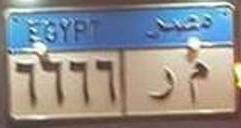6: (40, 61, 64, 106), (15, 61, 37, 106), (69, 58, 89, 105), (95, 59, 116, 102)
meem: (185, 61, 209, 105)
raa: (146, 63, 176, 102)
